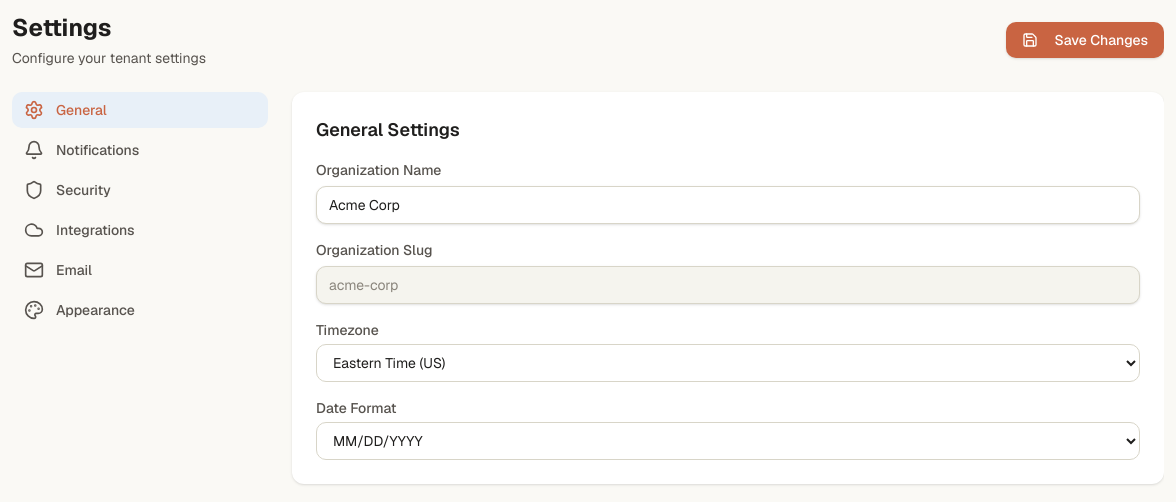
Test case: SettingsPage › Navigation Sidebar › switches to Notifications section
Click the button "Notifications": coordinates (140, 150) [12, 132, 268, 168]
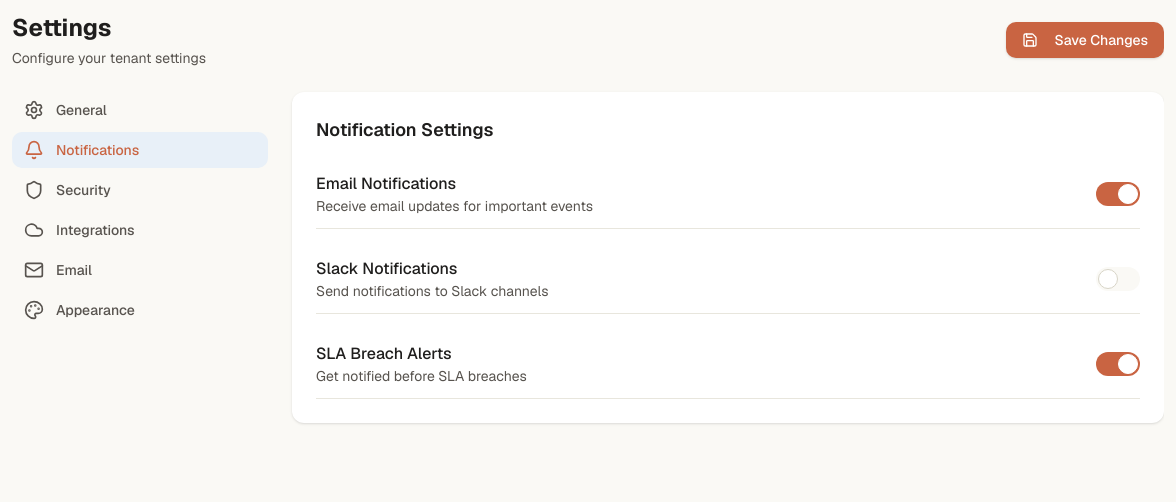
Check: the heading "Notification Settings" is shown, box [316, 118, 493, 141]
